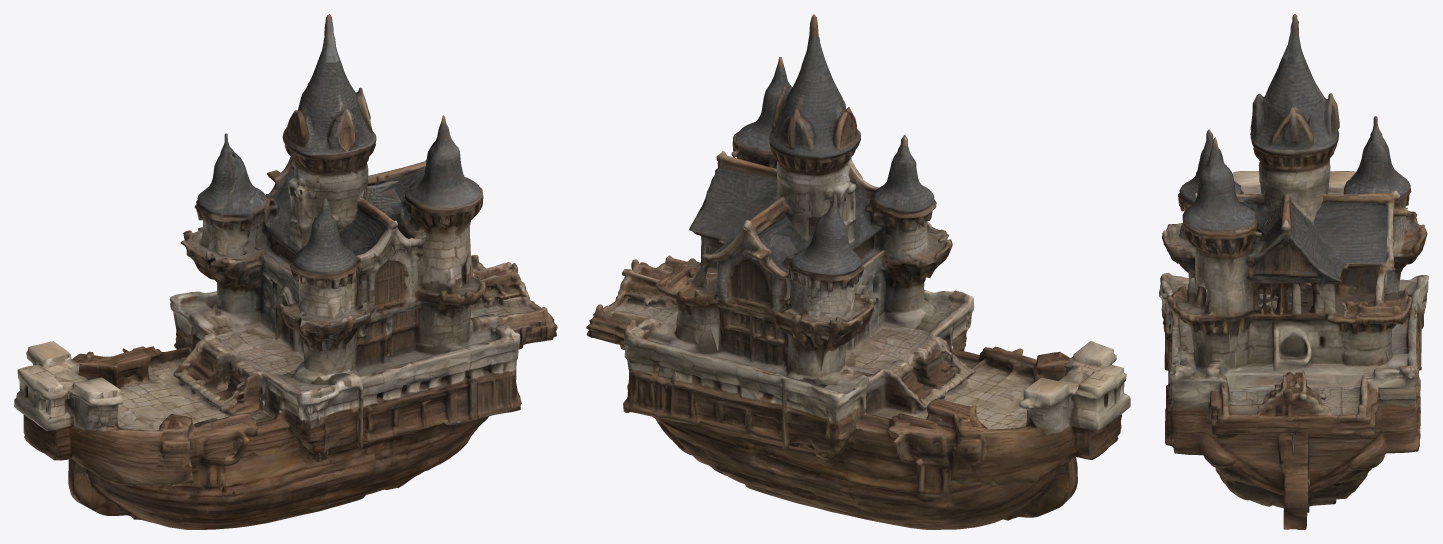
File: Castle_Boat_Diorama.glb
The picture shows the model from 3 angles, left to right: view 1: azimuth 30°, elevation 25°; view 2: azimuth 150°, elevation 25°; view 3: azimuth 270°, elevation 25°; orthographic projection.
Parts seen in each view (by area): view 1: Castle_Boat_Diorama; view 2: Castle_Boat_Diorama; view 3: Castle_Boat_Diorama.
Part boxes in pixels (<box>): Castle_Boat_Diorama: <box>14,14,557,529</box>; Castle_Boat_Diorama: <box>586,14,1130,529</box>; Castle_Boat_Diorama: <box>1159,14,1428,529</box>.
Size of the model in its own units: 1.99 by 1.83 by 0.9704.
1 material, 1 textured.
